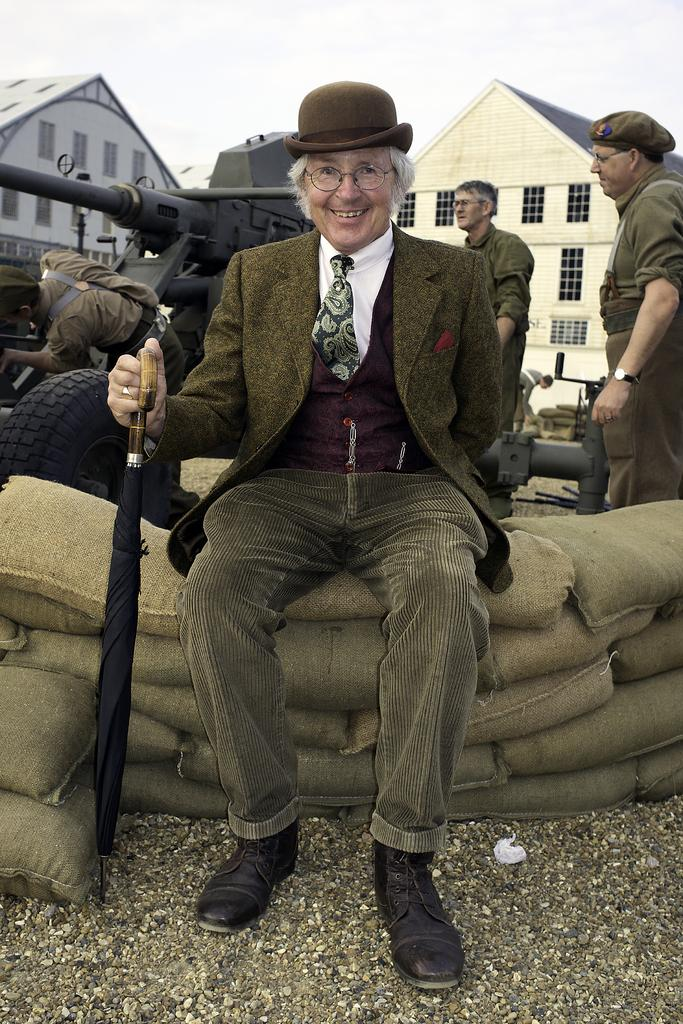Hat: (286, 82, 410, 160)
